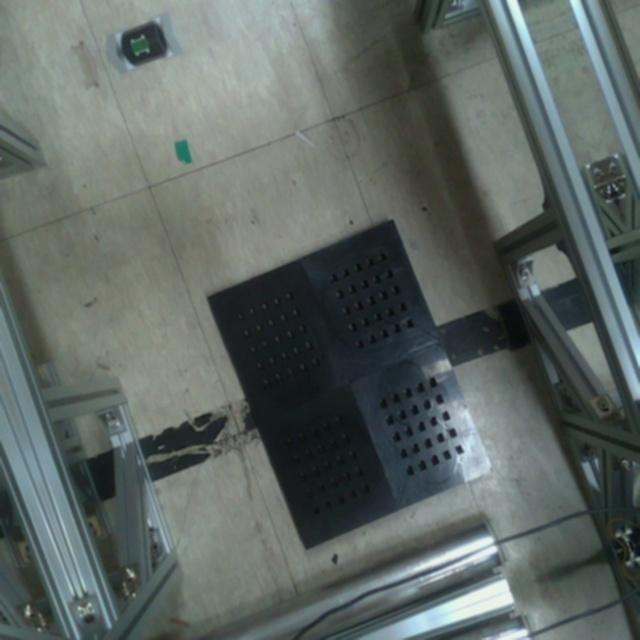pallet: (198, 210, 501, 556)
